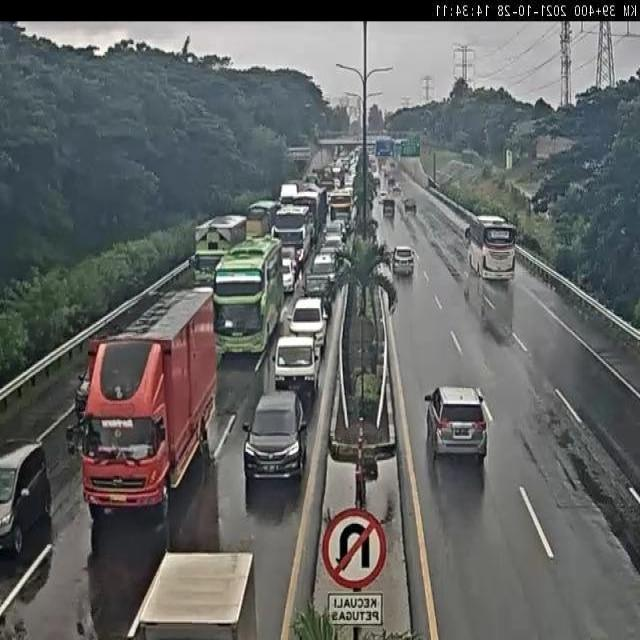Bus: (212, 237, 286, 359), (466, 215, 517, 282), (272, 204, 313, 266)
Car: (243, 392, 309, 484), (0, 437, 52, 553), (424, 385, 488, 461), (288, 296, 328, 350), (392, 246, 415, 274), (281, 258, 295, 295), (382, 198, 396, 219), (404, 197, 416, 213), (378, 189, 388, 200), (392, 184, 401, 194)
Truck: (75, 288, 218, 525), (193, 216, 245, 286), (272, 335, 321, 406), (246, 200, 282, 236)
